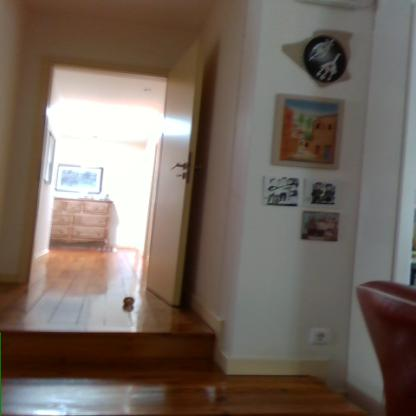open: (11, 40, 228, 332)
